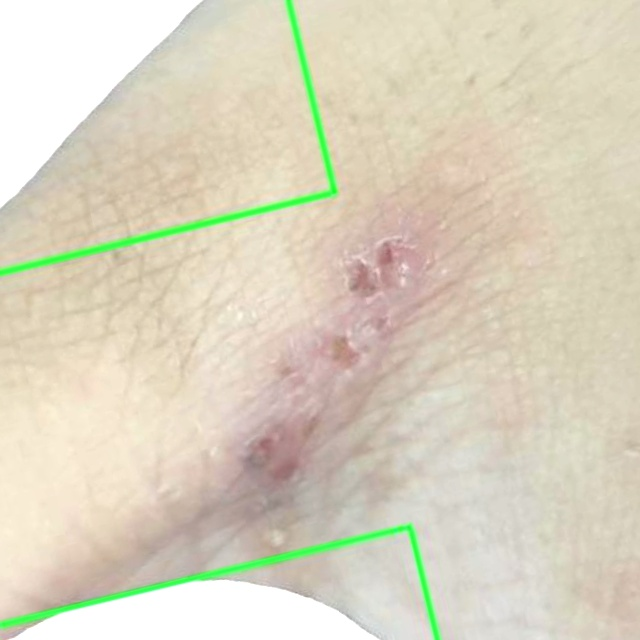Scabies: (0, 0, 335, 272)
